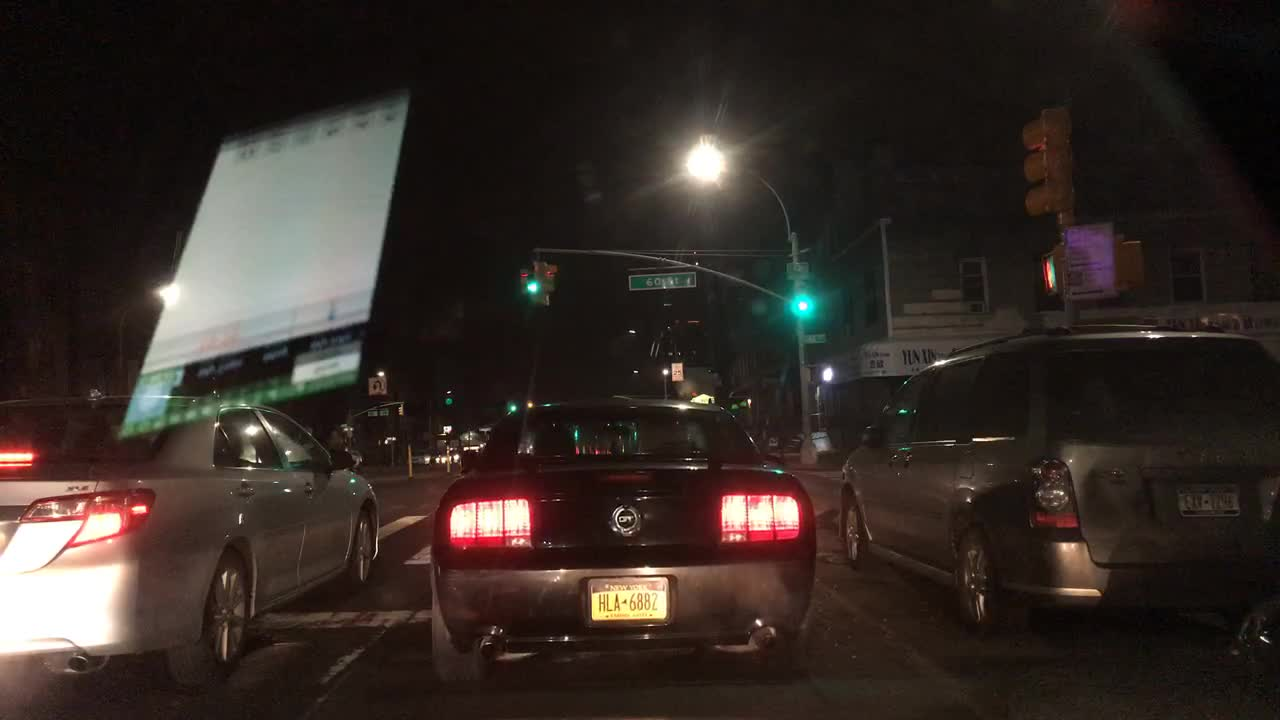car: (838, 320, 1279, 630), (0, 390, 382, 691), (429, 394, 817, 687), (1210, 579, 1279, 716)
traffic light: (1022, 119, 1049, 217), (1116, 235, 1146, 289), (1036, 250, 1062, 298), (515, 255, 527, 306), (544, 261, 555, 308), (527, 261, 539, 303), (791, 296, 810, 318), (819, 361, 834, 385), (443, 388, 453, 410), (396, 402, 403, 416)
traffic sign: (628, 275, 695, 289), (366, 376, 389, 397), (786, 262, 810, 282), (670, 362, 684, 383), (803, 334, 824, 345), (368, 409, 390, 416)
